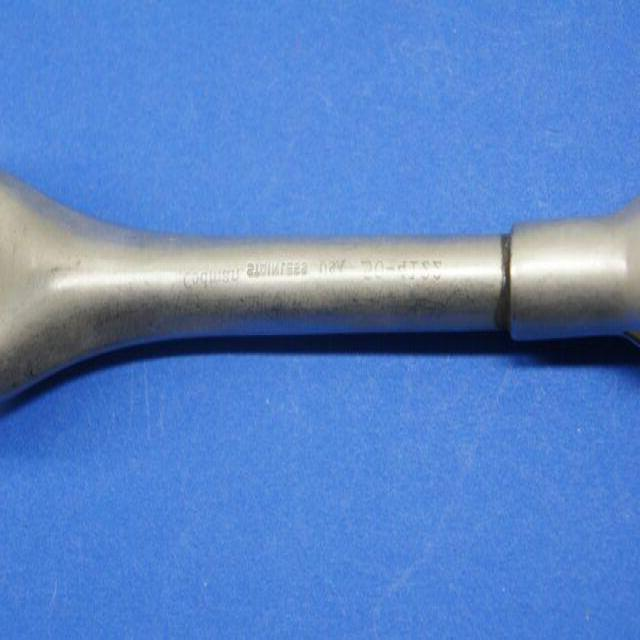Richardson: (0, 153, 639, 422)
